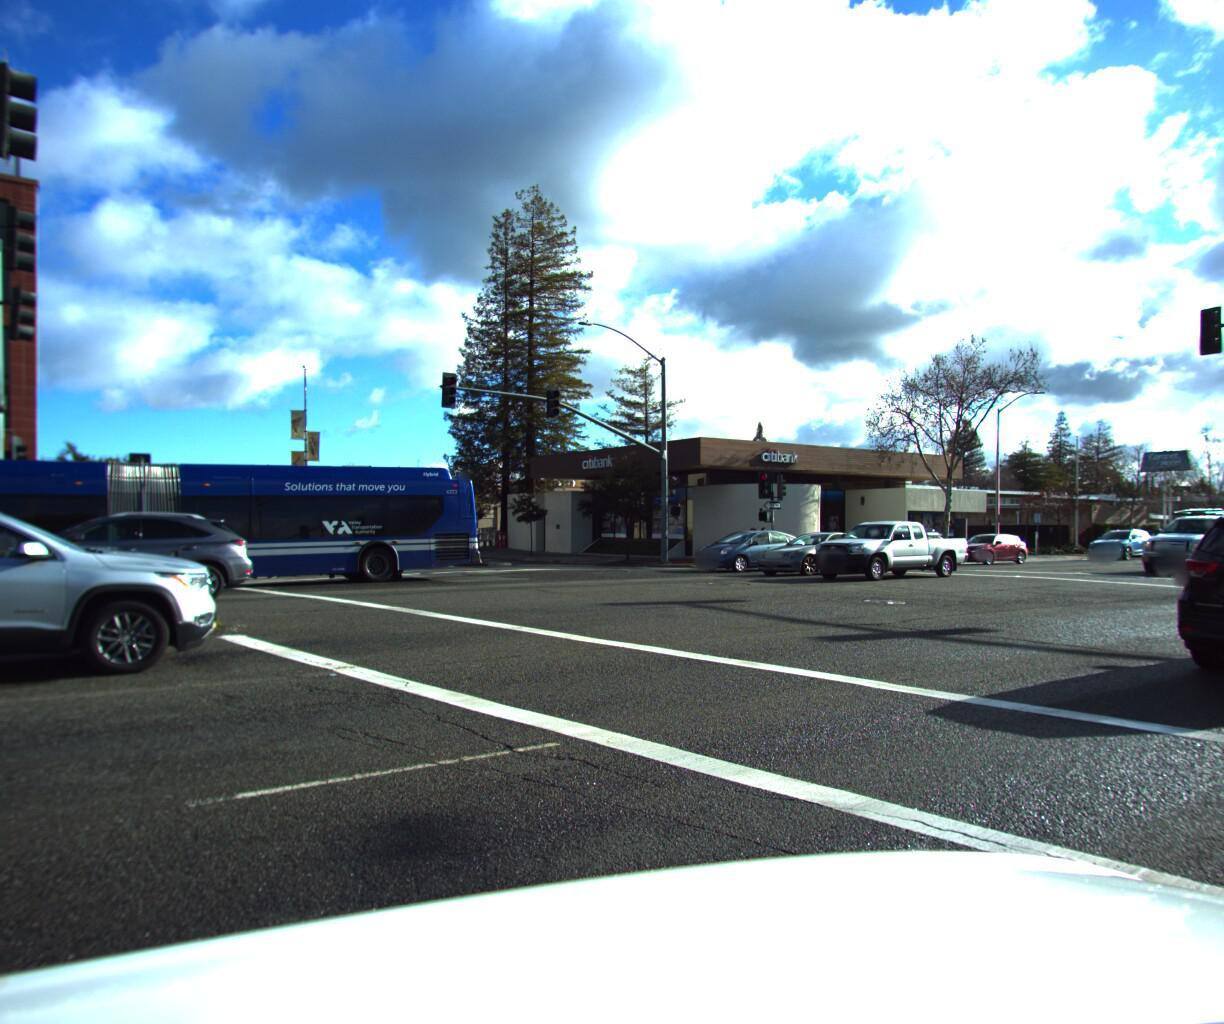bus: (0, 431, 490, 620)
car: (0, 475, 226, 726), (0, 514, 264, 612), (1138, 492, 1224, 712), (0, 523, 101, 649), (797, 518, 968, 585), (749, 522, 902, 577), (1122, 508, 1224, 576), (684, 524, 808, 564), (943, 529, 1029, 560), (1080, 530, 1155, 562)
